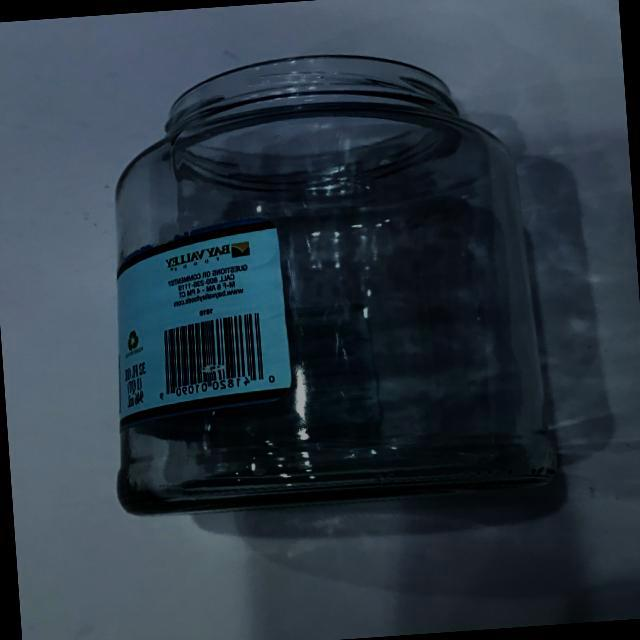glass: (75, 25, 564, 538)
